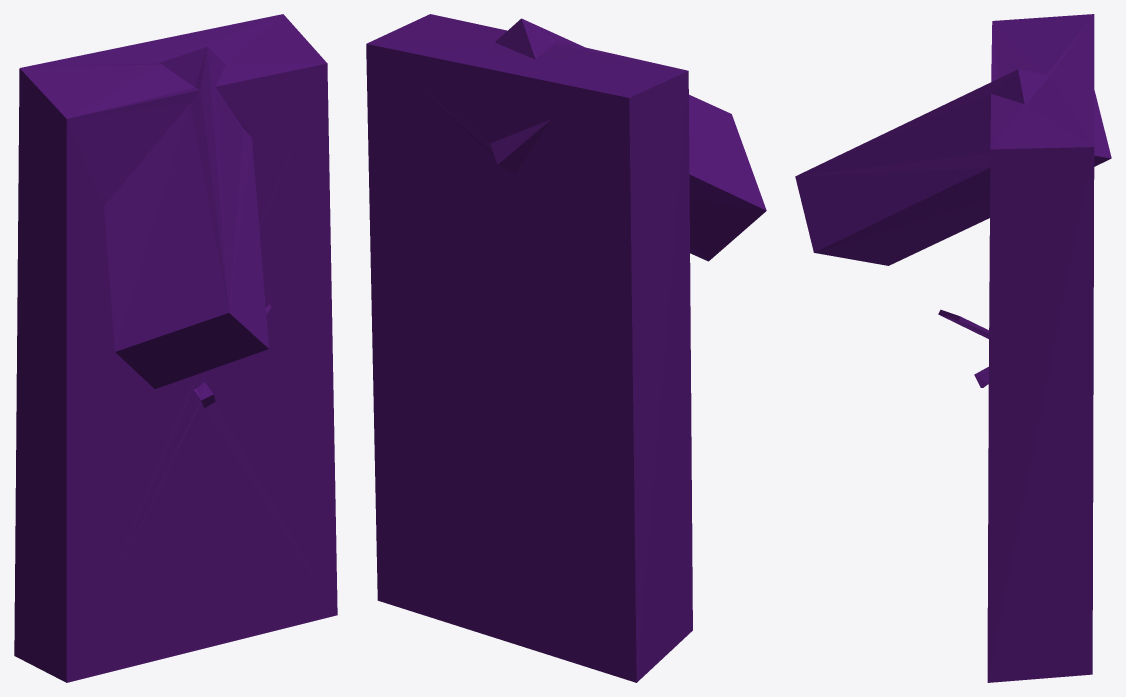
The picture shows the model from 3 angles, left to right: view 1: azimuth 30°, elevation 25°; view 2: azimuth 150°, elevation 25°; view 3: azimuth 270°, elevation 25°; orthographic projection. The views are drawn at different scales.
Parts seen in each view (by area): view 1: 225_Cube.923; view 2: 225_Cube.923; view 3: 225_Cube.923.
Part boxes in pixels (<box>): 225_Cube.923: <box>14,14,337,682</box>; 225_Cube.923: <box>366,14,766,682</box>; 225_Cube.923: <box>795,14,1111,682</box>.
Size of the model in its own units: 6.35 by 12.79 by 6.38.
